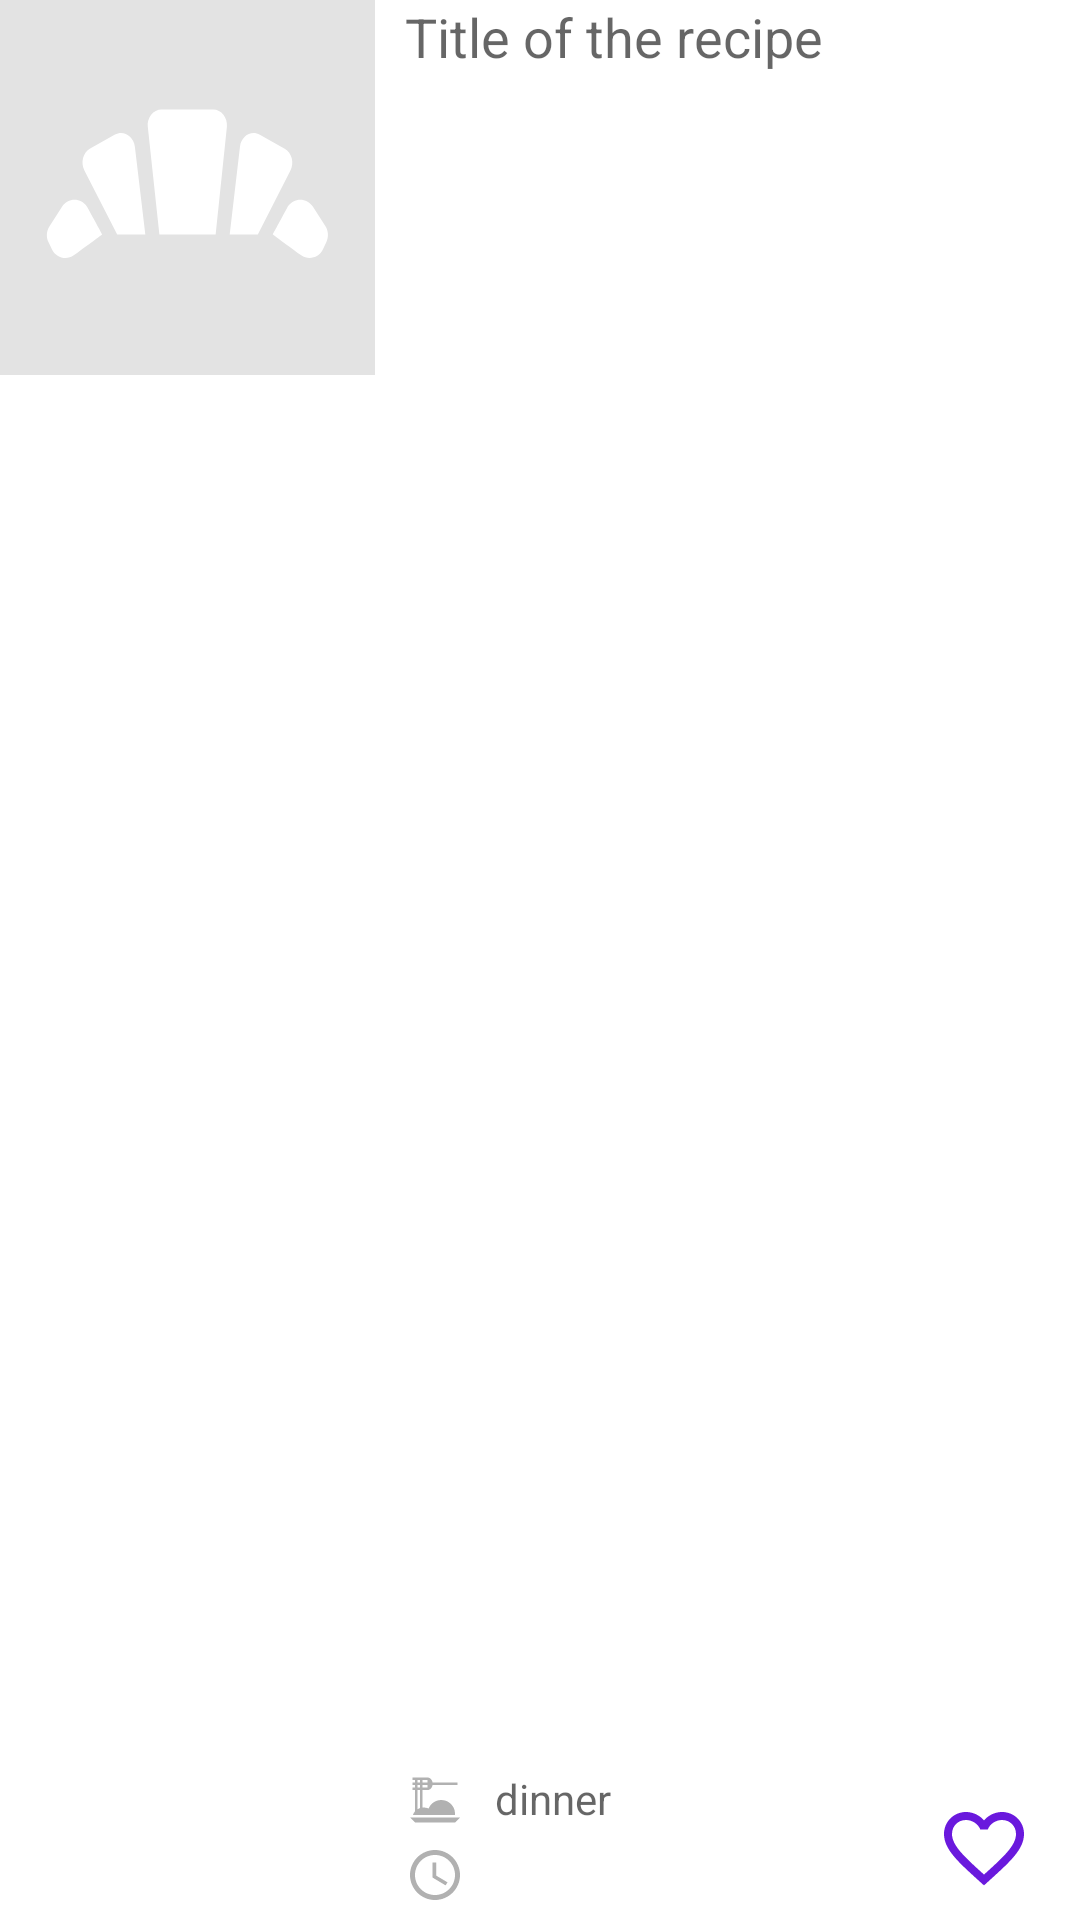

Screen size 1080x1920. Icon name, then its box in pixels as (x1, y1, x2, y2):
checkbox like: (944, 1812, 1024, 1885)
meal type: (411, 1777, 460, 1823)
time: (410, 1850, 460, 1900)
